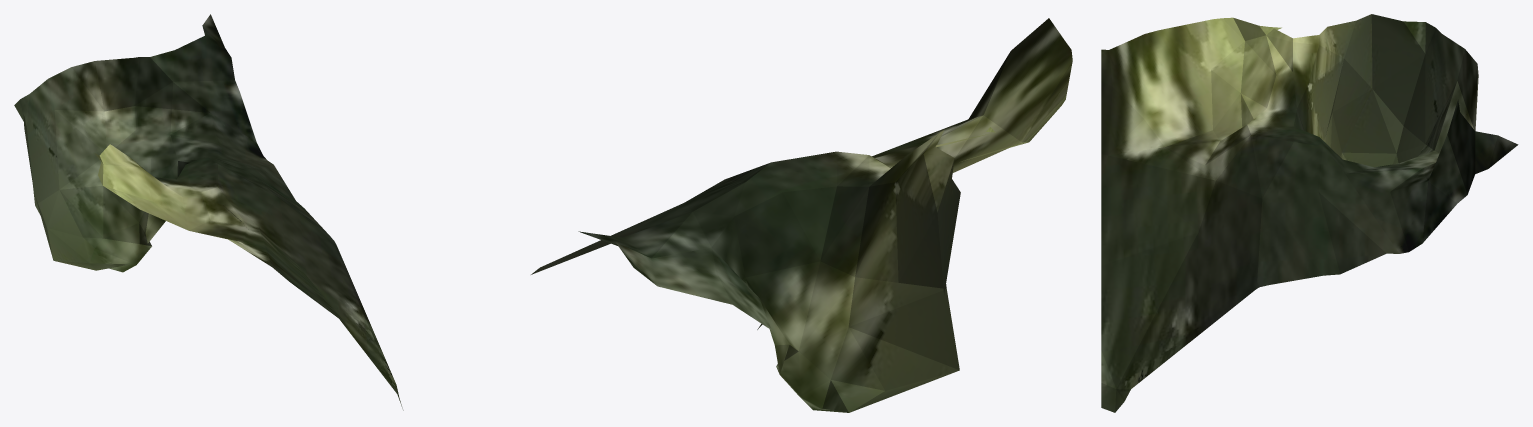
The picture shows the model from 3 angles, left to right: view 1: azimuth 30°, elevation 25°; view 2: azimuth 150°, elevation 25°; view 3: azimuth 270°, elevation 25°; orthographic projection. The views are drawn at different scales.
Size of the model in its own units: 1.82 by 1.74 by 2.46.
Materials: 2 (2 with a texture image).
